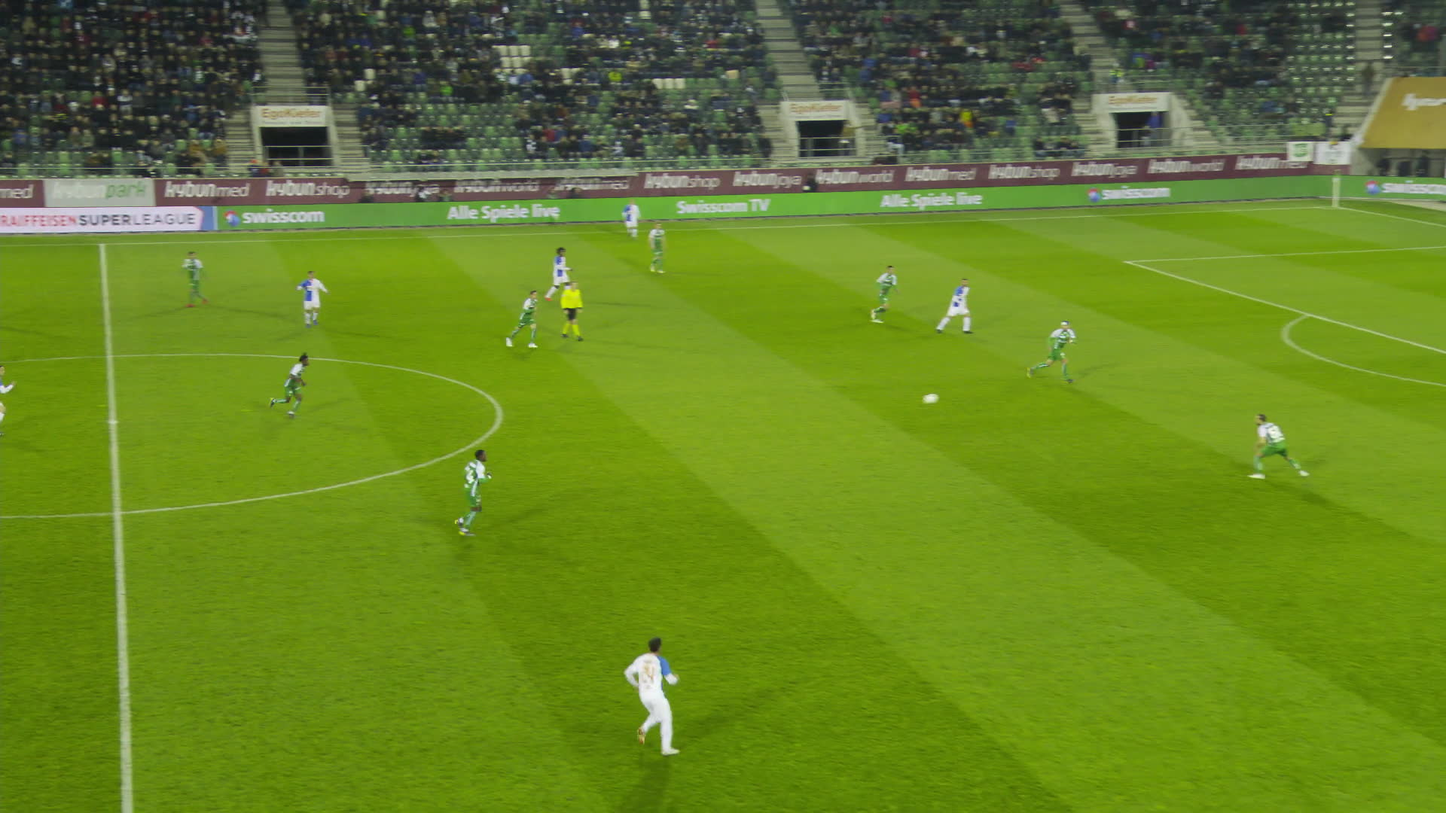ball: (908, 397, 923, 407)
player: (623, 636, 679, 754), (455, 450, 495, 536), (1033, 321, 1082, 382), (1262, 412, 1303, 484), (270, 352, 307, 416), (936, 277, 972, 333), (873, 265, 907, 323), (300, 270, 331, 330), (513, 291, 541, 347), (551, 247, 577, 301), (182, 252, 207, 306), (0, 366, 17, 431), (651, 222, 671, 273), (629, 199, 647, 236), (0, 275, 5, 306)
referee: (567, 280, 588, 341)
